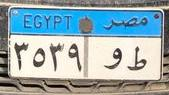3: (13, 39, 30, 72), (49, 42, 65, 72)
5: (32, 46, 47, 69)
9: (67, 41, 83, 74)
Taa: (126, 46, 148, 73)
waw: (102, 48, 123, 70)
